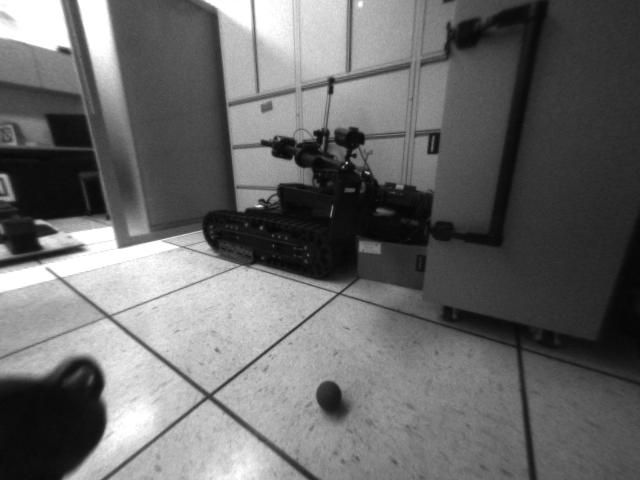dogtoy: (308, 372, 352, 416)
